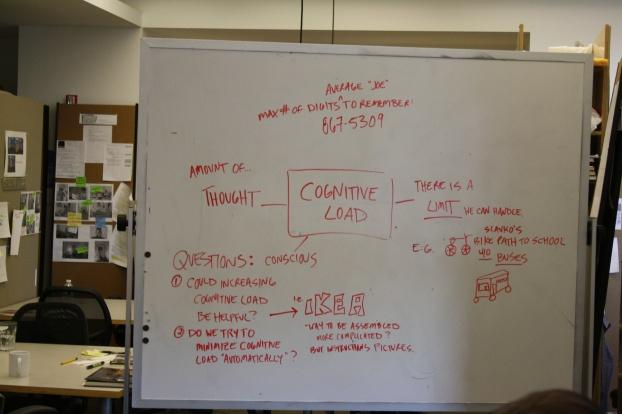AIO PC-Monitor-TV: (130, 36, 593, 413)
